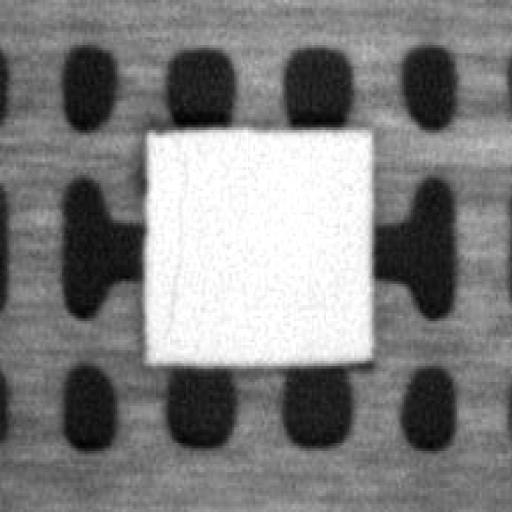DIE_CRACK: (159, 143, 186, 337)
